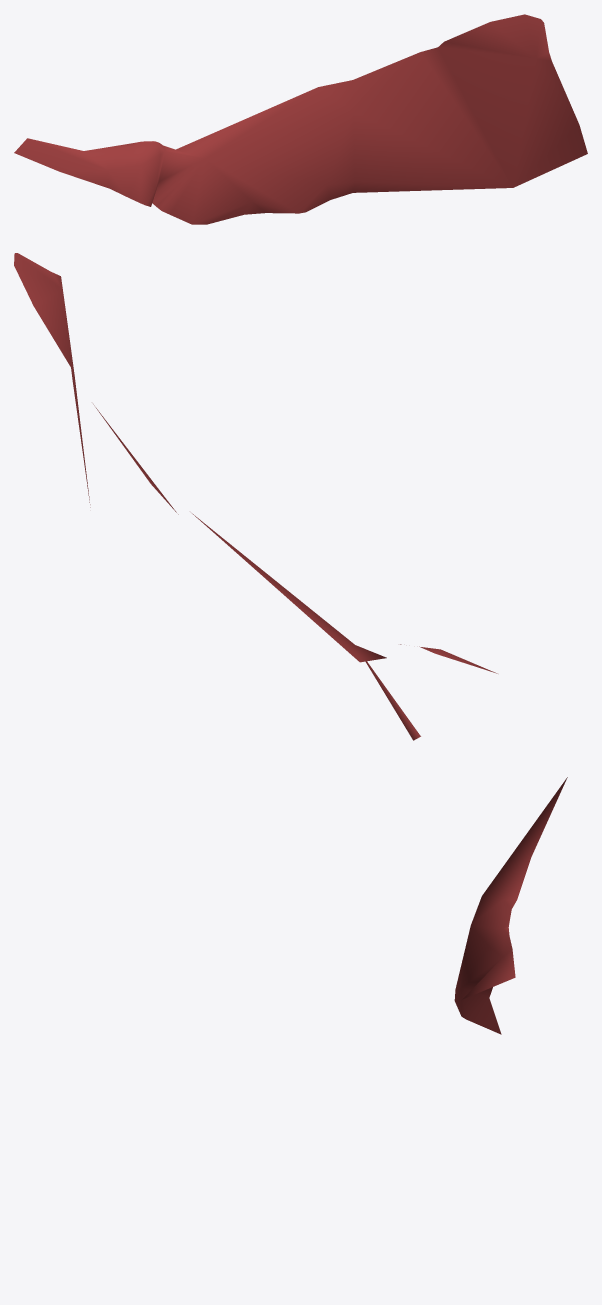
Rendered from levator-labii-superioris-or.glb.
The picture shows the model from 3 angles, top to bottom: view 1: azimuth 30°, elevation 25°; view 2: azimuth 150°, elevation 25°; view 3: azimuth 270°, elevation 25°; orthographic projection. The views are drawn at different scales.
Visible parts, largest first — view 1: Levator labii superioris.or; view 2: Levator labii superioris.or; view 3: Levator labii superioris.or.
Part boxes in pixels (x1=…): Levator labii superioris.or: x1=14, y1=14, x2=587, y2=224; Levator labii superioris.or: x1=14, y1=253, x2=497, y2=740; Levator labii superioris.or: x1=454, y1=777, x2=567, y2=1034.
Size of the model in its own units: 0.0235 by 0.00939 by 0.0123.
